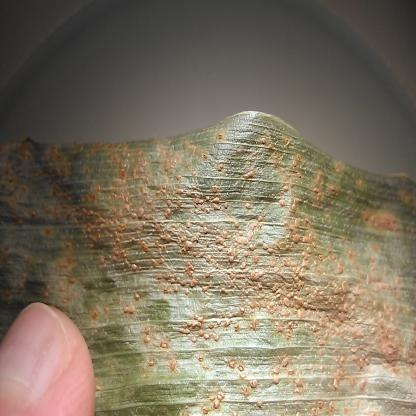Corn rust leaf: (81, 124, 416, 416)
